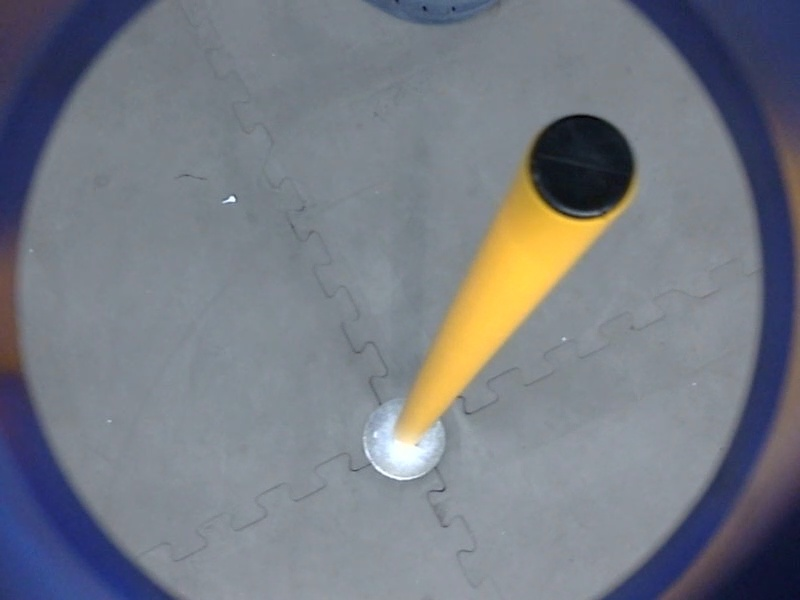tip: (520, 106, 645, 228)
